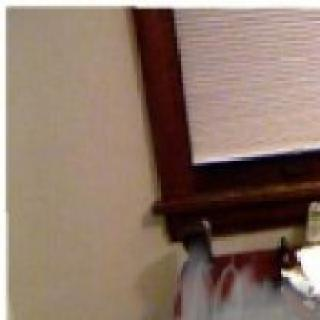smoke: (65, 259, 320, 320)
